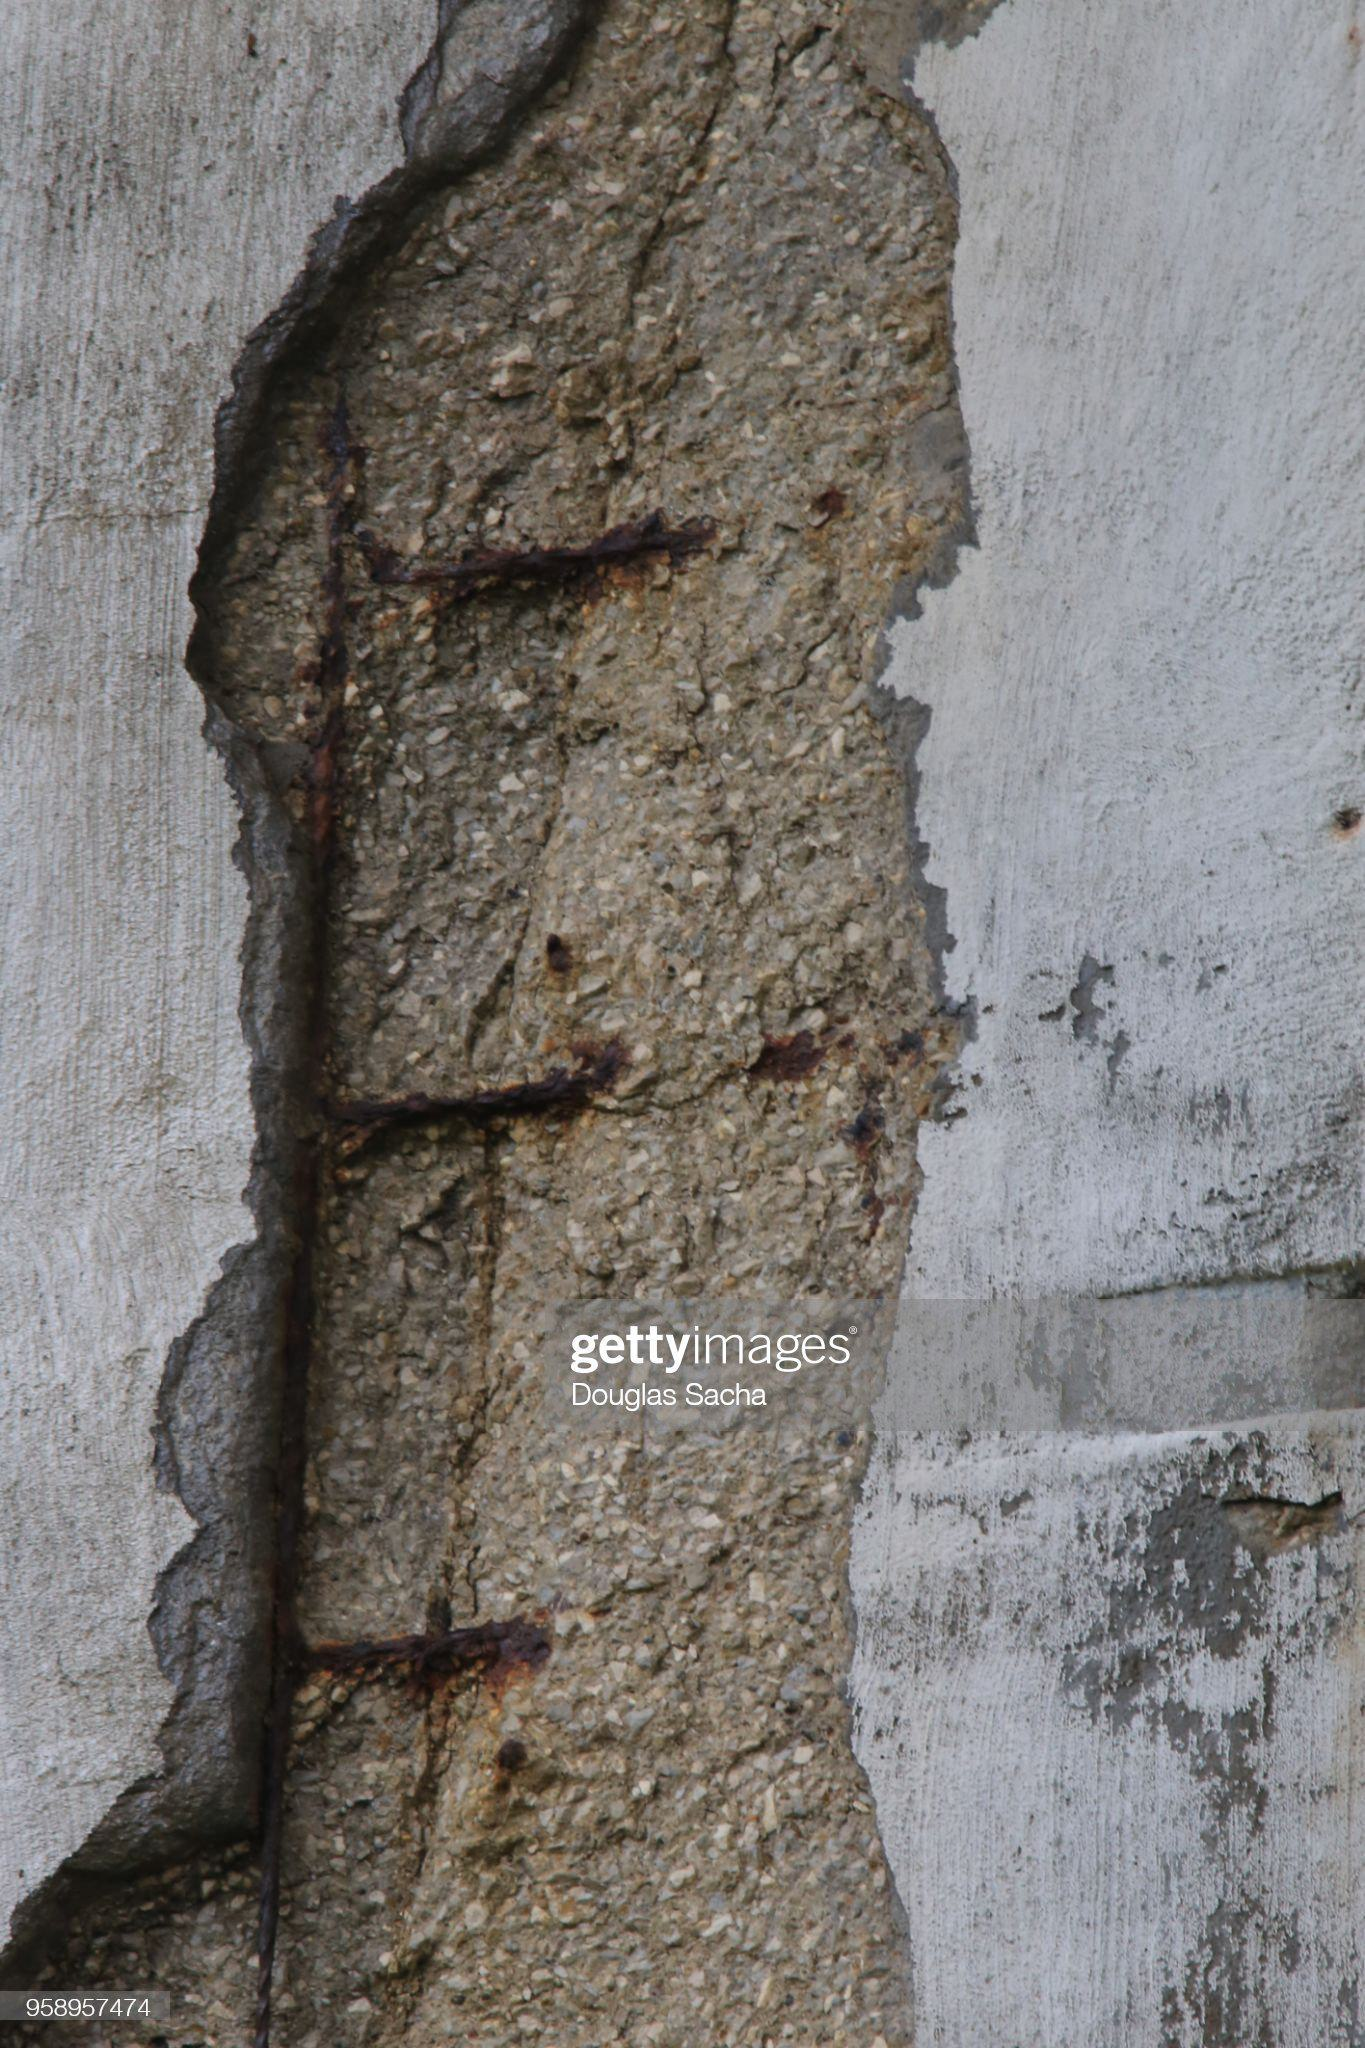Exposed reinforcement: (251, 375, 356, 2048), (366, 509, 719, 591), (341, 1061, 590, 1169), (309, 1613, 555, 1686)
Spalling: (2, 2, 998, 2048), (1220, 1488, 1350, 1558)
